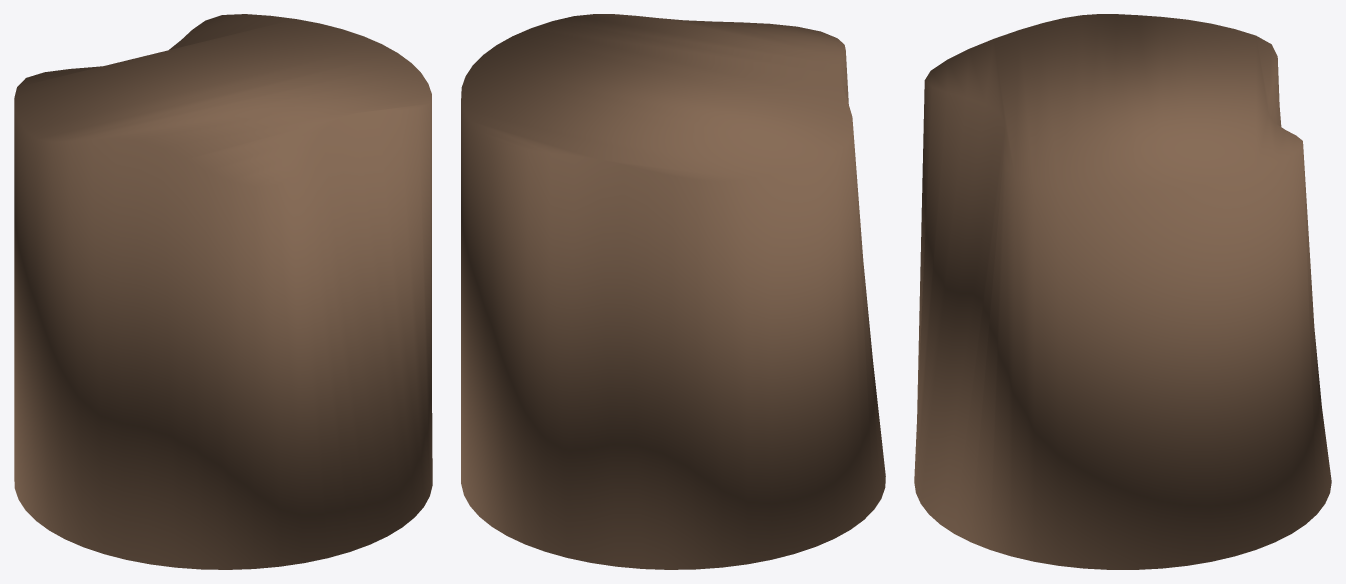
The model's file is Tree.fbx.
3 renders of one model, left to right at view 1: azimuth 30°, elevation 25°; view 2: azimuth 150°, elevation 25°; view 3: azimuth 270°, elevation 25°, orthographic.
Visible parts, largest first — view 1: Cylinder; view 2: Cylinder; view 3: Cylinder.
Boxes of the visible parts, bbox=[...] form: Cylinder: bbox=[14, 14, 432, 569]; Cylinder: bbox=[461, 14, 885, 569]; Cylinder: bbox=[914, 14, 1331, 569].
Bounding box in the file's own units: 39.92 × 42.17 × 40.
